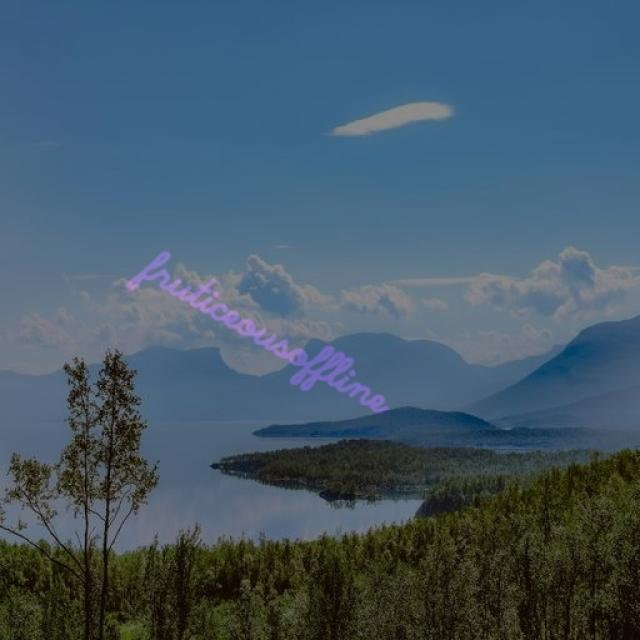watermark: (132, 242, 416, 424)
